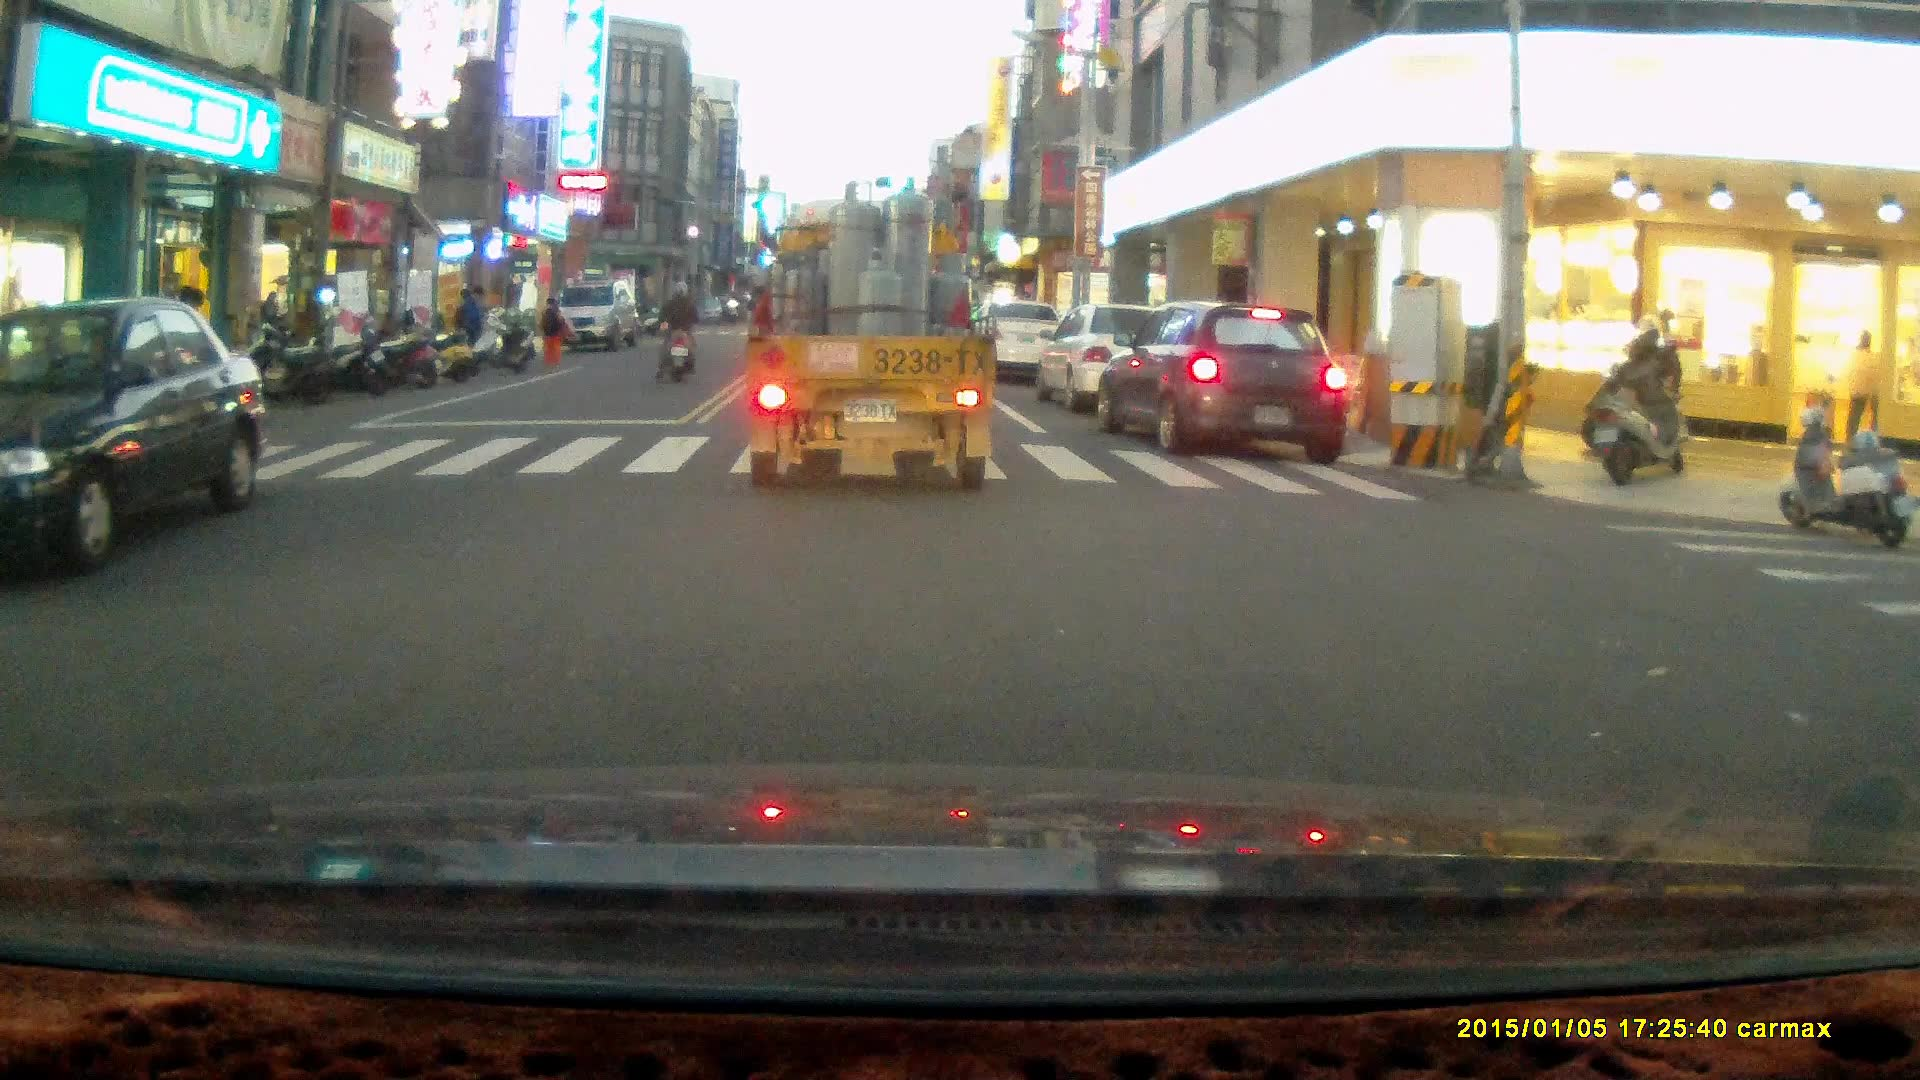pedestrian: (455, 282, 490, 368), (535, 292, 570, 366)
rider: (1579, 315, 1683, 467), (652, 277, 699, 386)
vehicle: (745, 175, 997, 496), (1, 295, 265, 569), (1103, 299, 1346, 462), (1046, 304, 1209, 417), (972, 298, 1073, 386), (552, 283, 645, 354)
